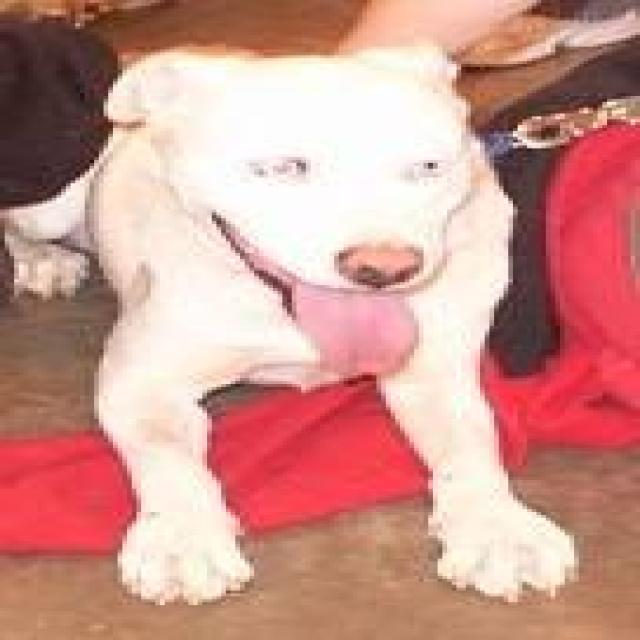dog: (0, 38, 579, 605)
